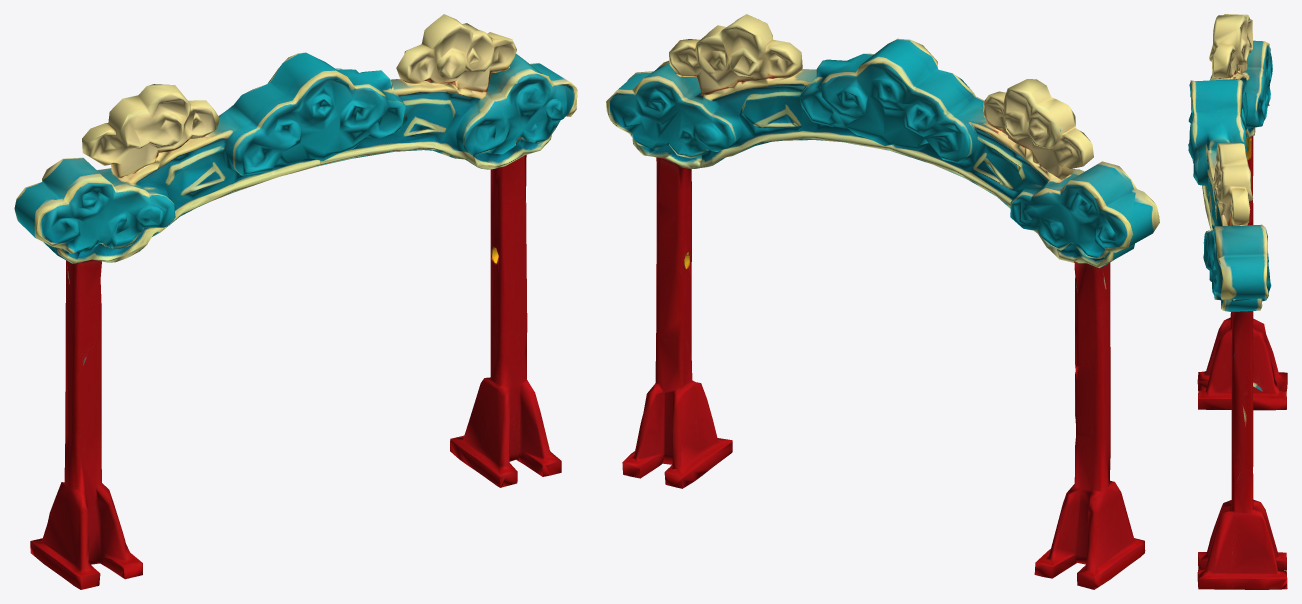
Rendered from cloud-gate.glb.
3 renders of one model, left to right at view 1: azimuth 30°, elevation 25°; view 2: azimuth 150°, elevation 25°; view 3: azimuth 270°, elevation 25°, orthographic. The views are drawn at different scales.
Bounding box in the file's own units: 0.9765 × 0.8002 × 0.1763.
Materials: 1 (1 with a texture image).
